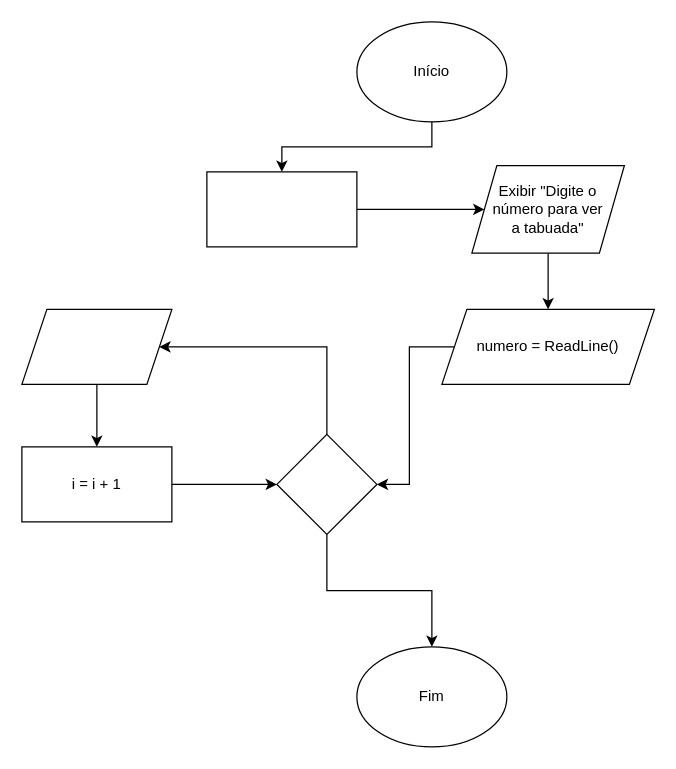
Image size: 676x769. Some labels were removed from this diagram. The centre of each missing label's shape, as x and y in pixels:
i <= 10?: point 326,483
numero, i = 1: point 281,209
WriteLine (numero * i): point 96,346
